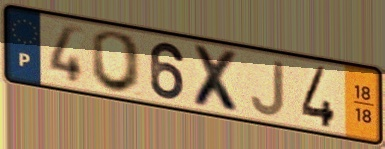4: (46, 22, 87, 87), (300, 65, 337, 130)
6: (147, 39, 188, 102)
J: (248, 58, 287, 118)
O: (88, 28, 145, 96)
X: (190, 41, 245, 117)
